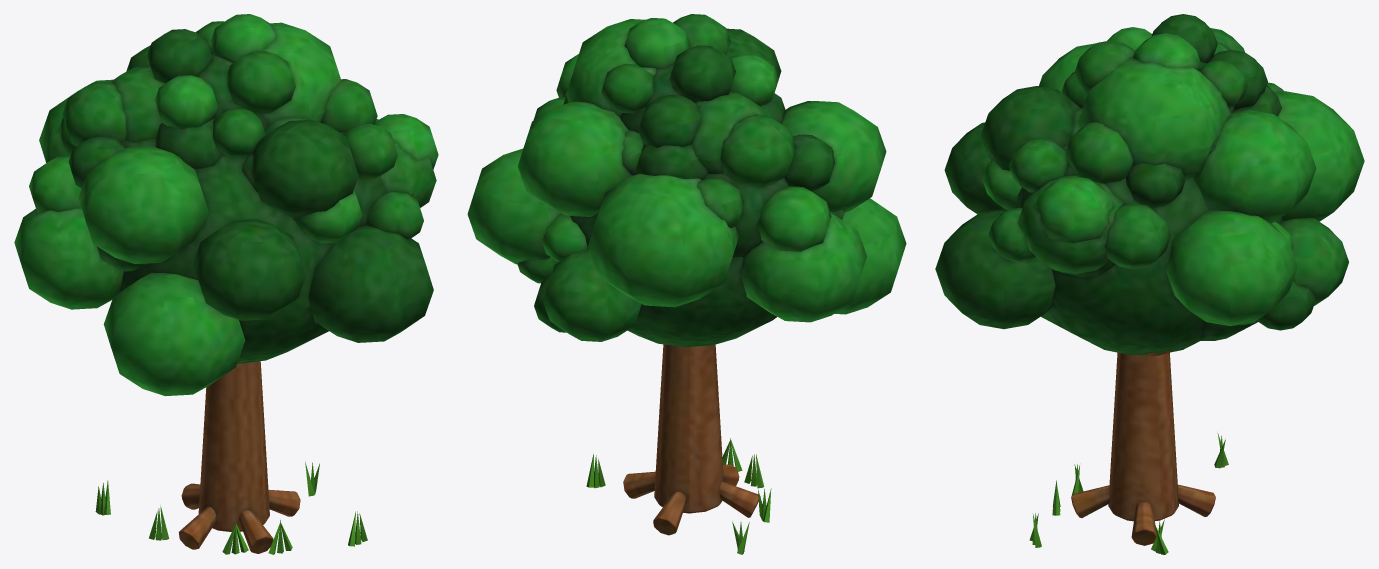
Rendered from blood_orange_tree.glb.
The picture shows the model from 3 angles, left to right: view 1: azimuth 30°, elevation 25°; view 2: azimuth 150°, elevation 25°; view 3: azimuth 270°, elevation 25°; orthographic projection.
Parts seen in each view (by area): view 1: crown, blood_orange_tree; view 2: crown, blood_orange_tree; view 3: crown, blood_orange_tree.
Boxes of the visible parts, bbox=[...] form: crown: bbox=[14, 14, 438, 396]; blood_orange_tree: bbox=[95, 361, 367, 554]; crown: bbox=[467, 14, 906, 346]; blood_orange_tree: bbox=[586, 344, 771, 554]; crown: bbox=[935, 14, 1364, 354]; blood_orange_tree: bbox=[1029, 350, 1228, 554].
Size of the model in its own units: 1.06 by 1.38 by 1.09.
Materials: 1 (1 with a texture image).
